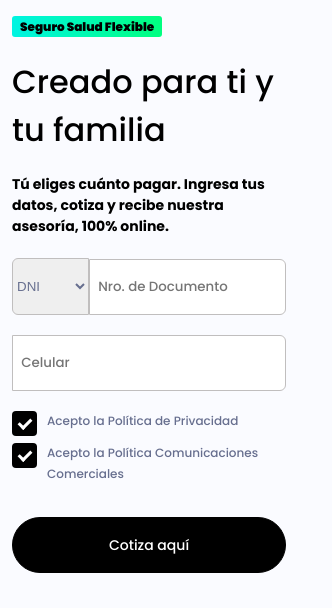
Test: LoginForm › muestra mensajes de error si se envía vacío
Click the button "Cotiza aquí" at (149, 545), box [12,517,286,573]
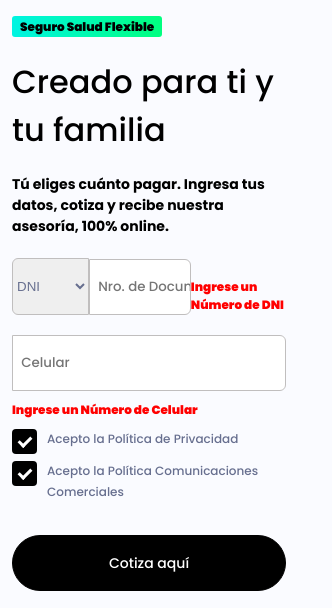
Check: the text "Ingrese un Número de DNI" is shown, box [191,278,286,314]
Check: the text "Ingrese un Número de Celular" is shown, box [12,401,198,418]
